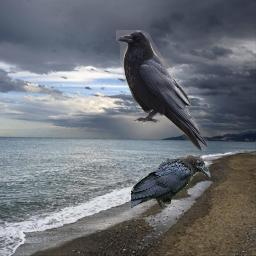Crow: (116, 30, 209, 153), (131, 153, 211, 208)
